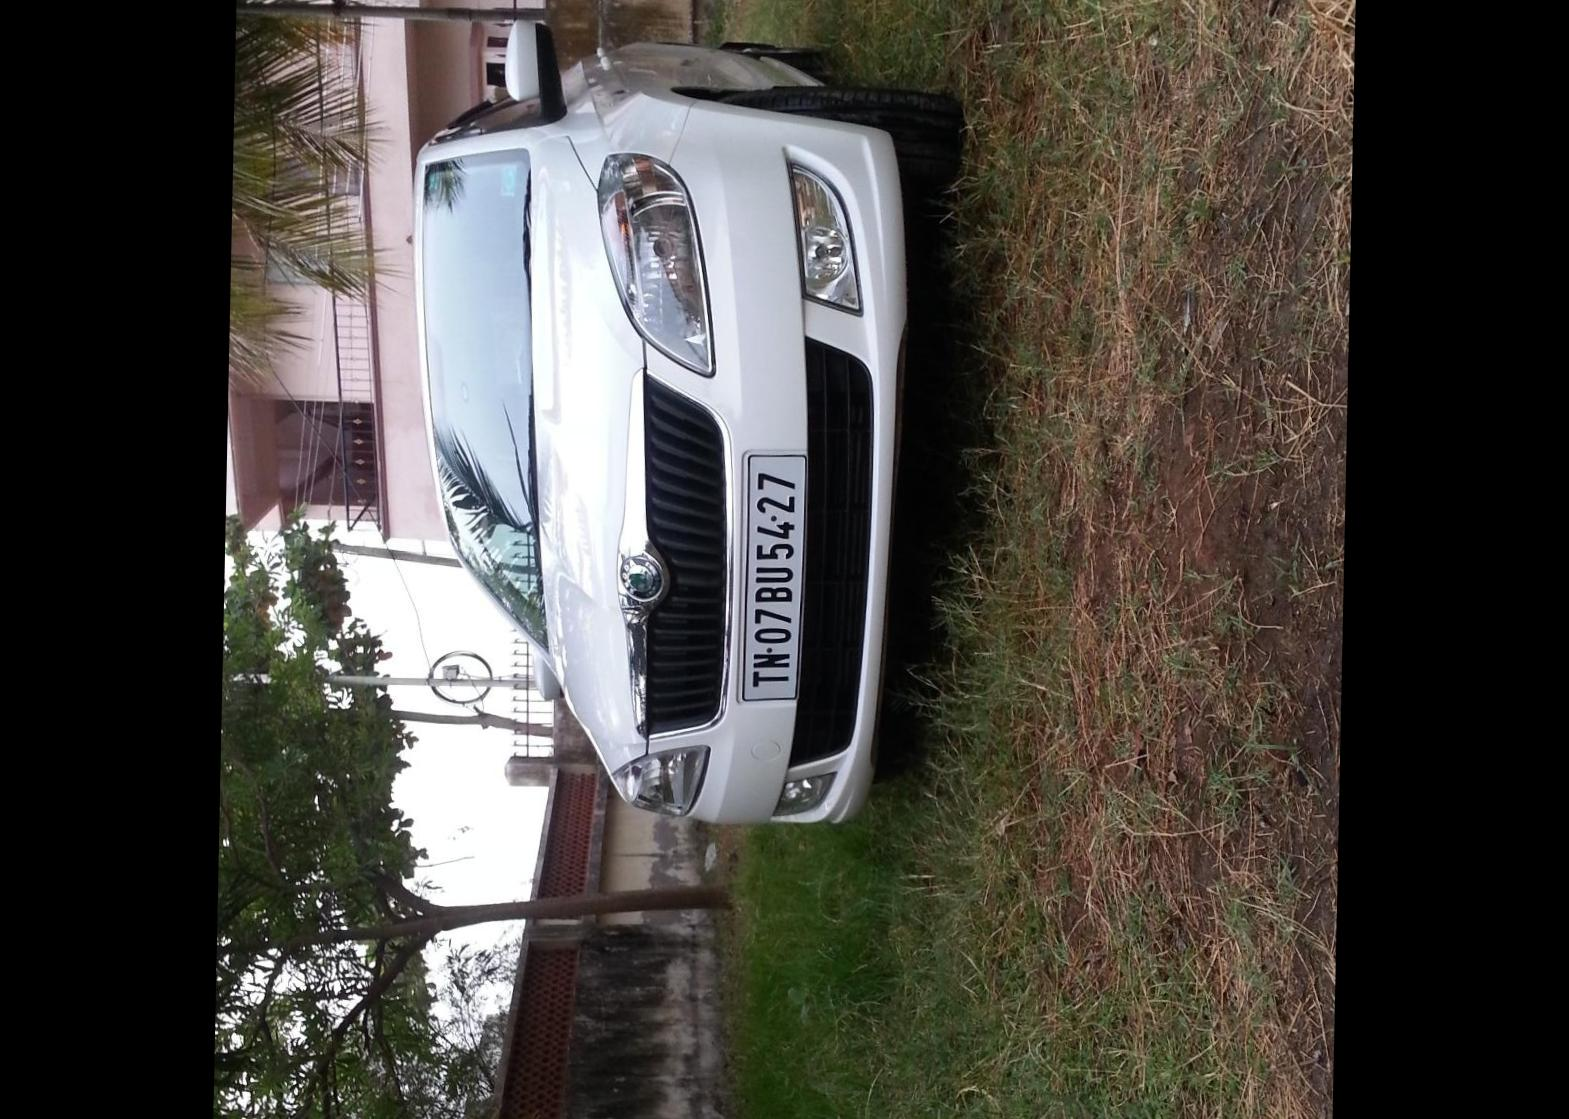plate: (729, 449, 805, 699)
